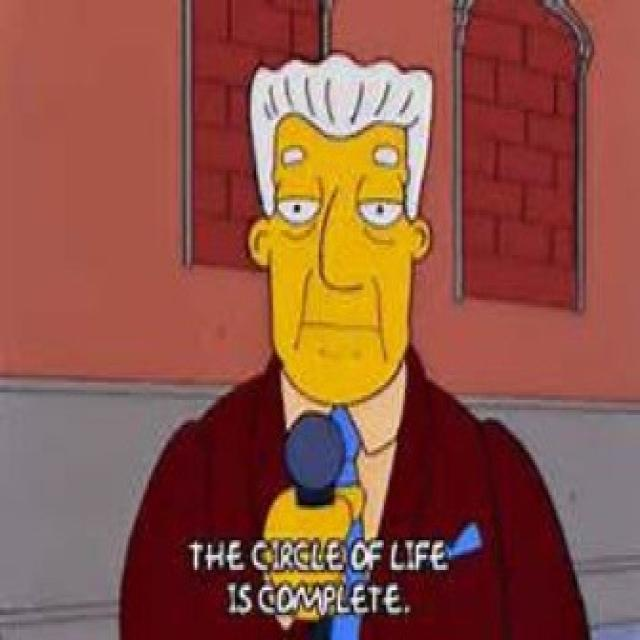Kent Brockman: (242, 46, 438, 414)
